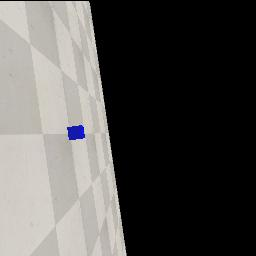box: (67, 125, 85, 140)
